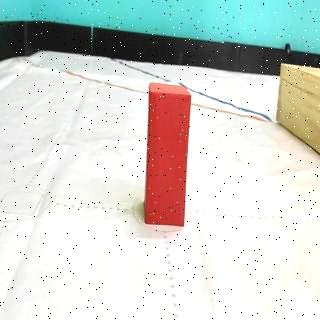redbox: (144, 81, 192, 227)
